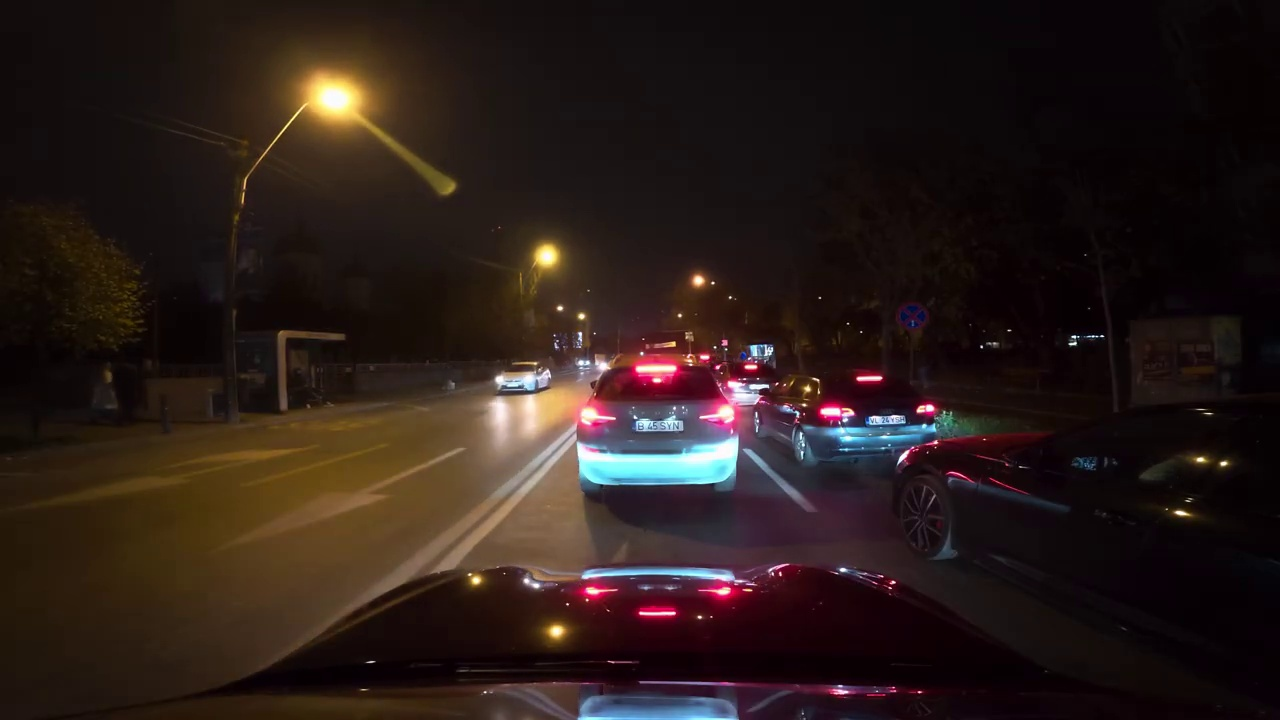acesa: (302, 73, 362, 130), (531, 242, 561, 272), (687, 270, 711, 294)
